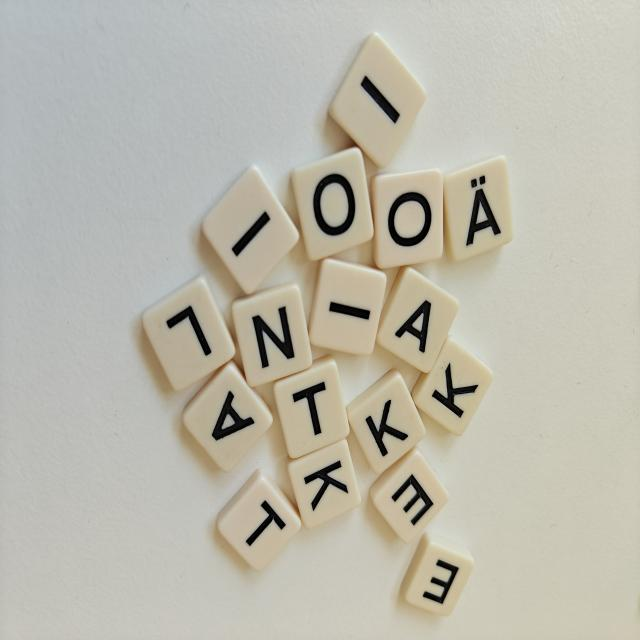a: (183, 361, 273, 472), (377, 267, 459, 372)
a_dot: (443, 155, 513, 261)
e: (370, 447, 449, 543), (402, 533, 473, 615)
i: (329, 33, 426, 168), (202, 166, 299, 294), (309, 258, 386, 355)
k: (346, 370, 425, 473), (412, 336, 492, 436), (288, 439, 361, 528)
l: (142, 275, 235, 390)
n: (232, 282, 312, 387)
o: (292, 147, 374, 261), (372, 169, 443, 269)
t: (217, 470, 301, 571), (274, 356, 349, 458)
